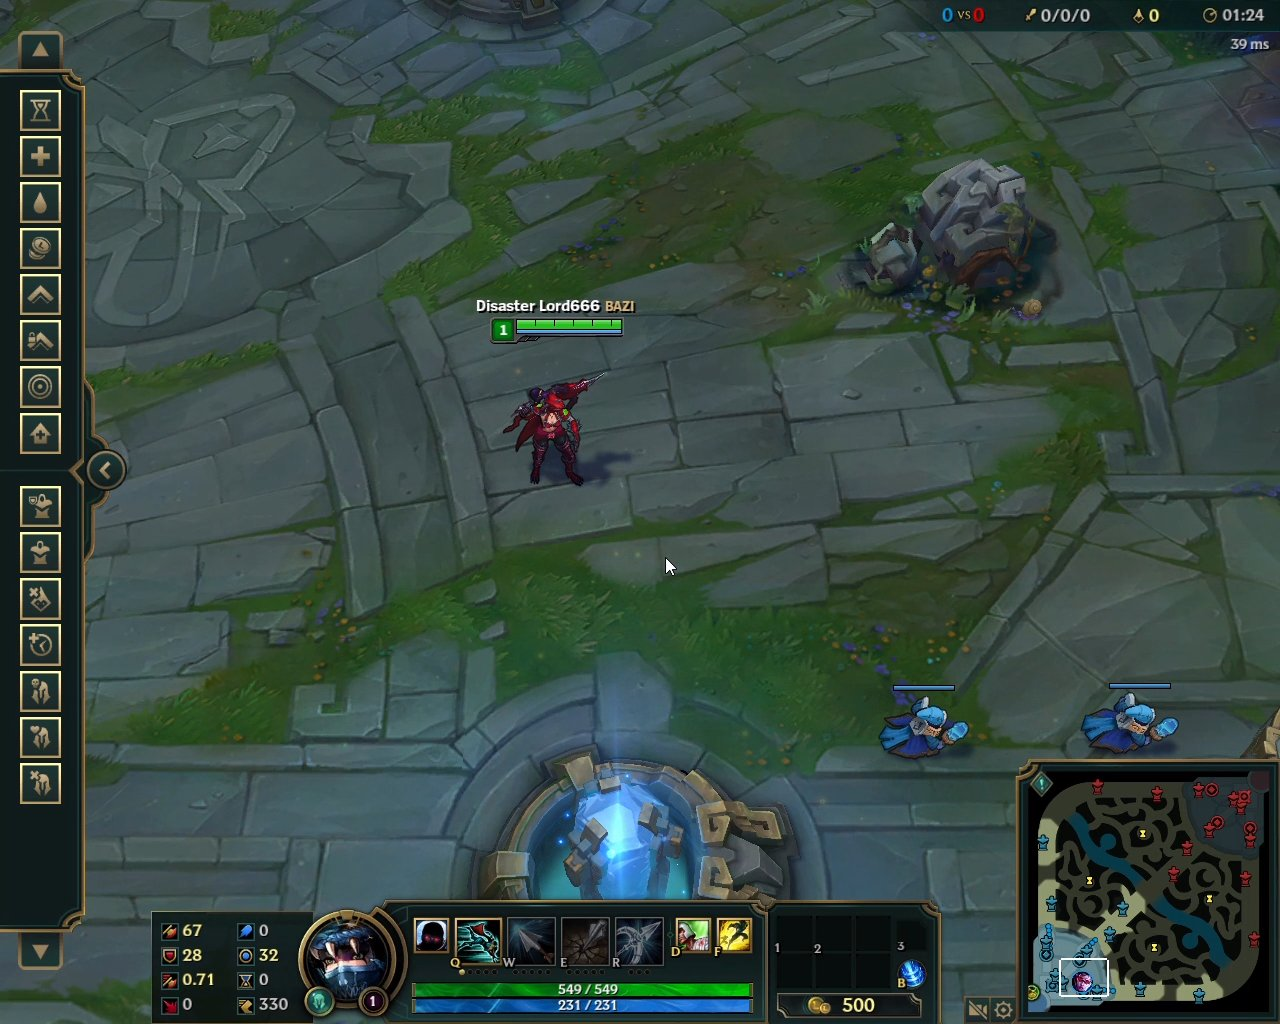Vayne: (498, 360, 618, 497)
